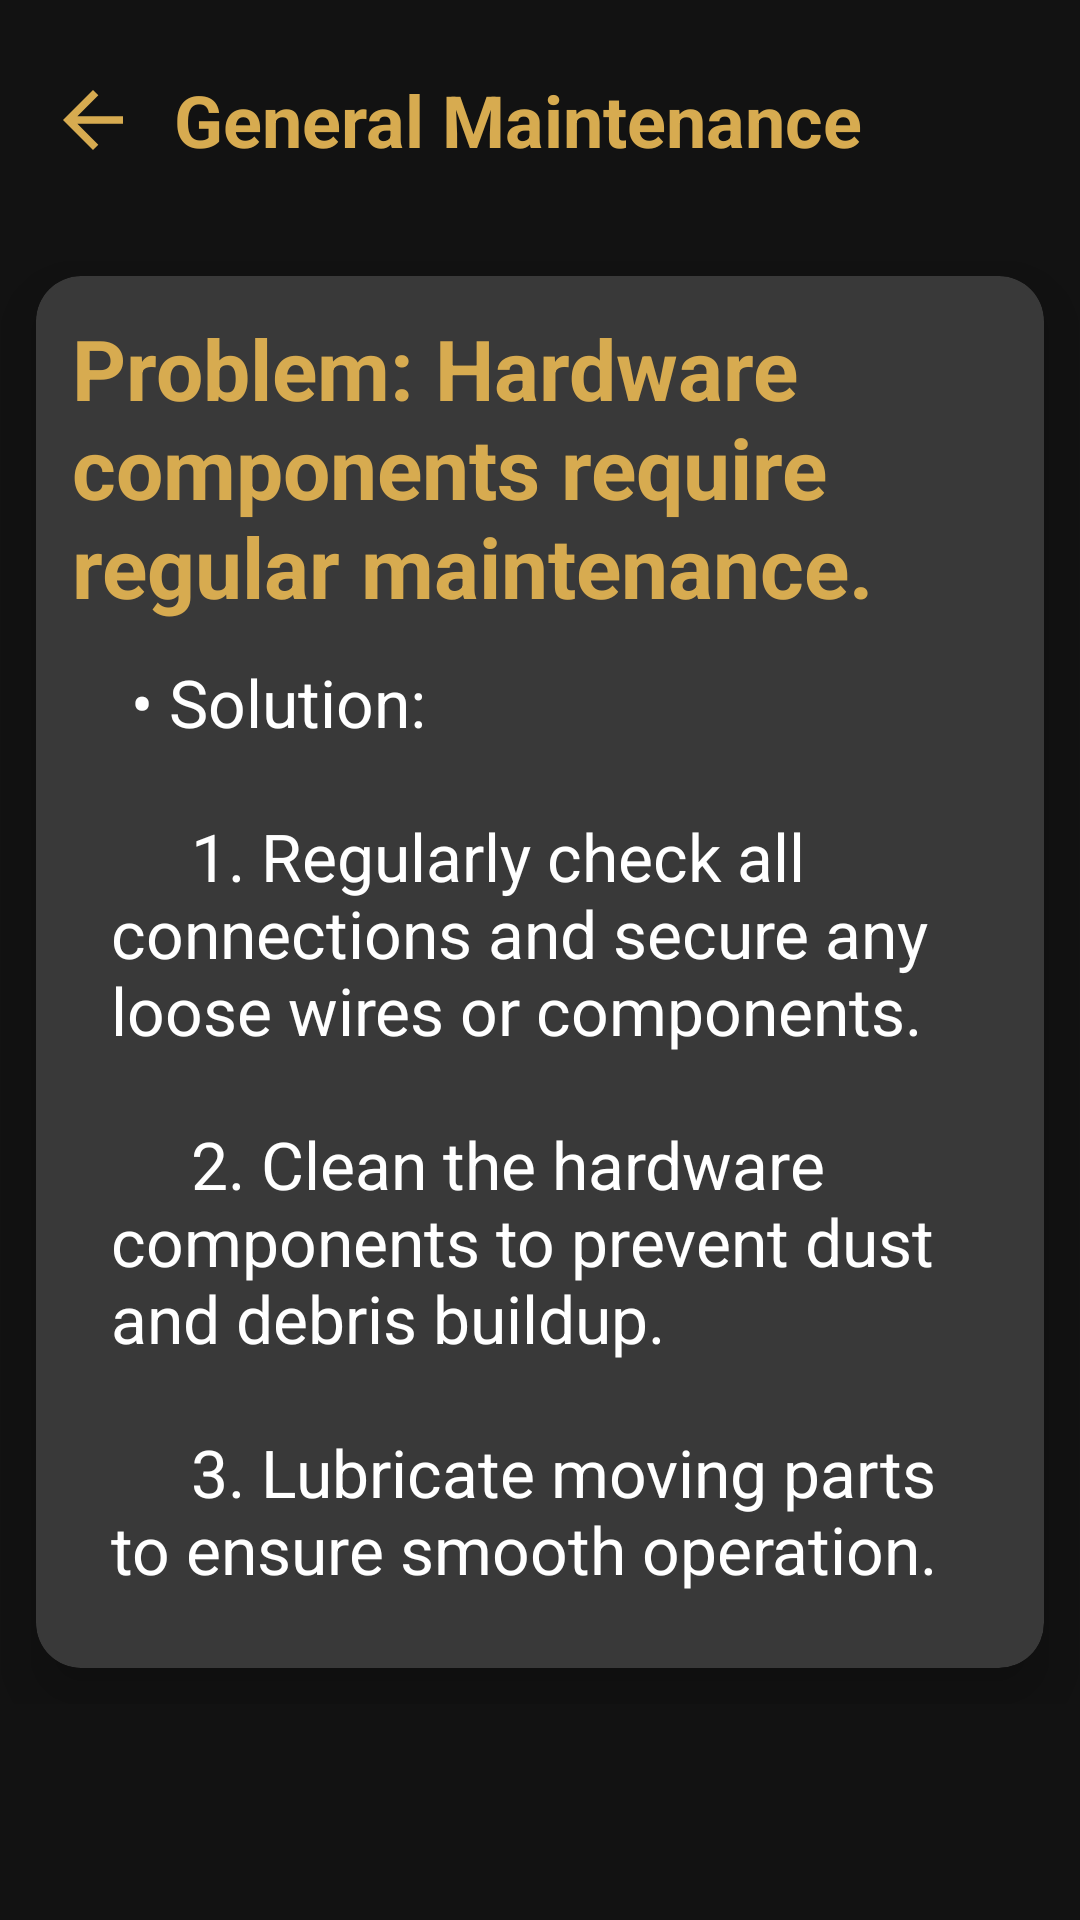

Icon click points for this 1080×1920 phone screenshot, format (x,y):
arrow back: (93,120)
